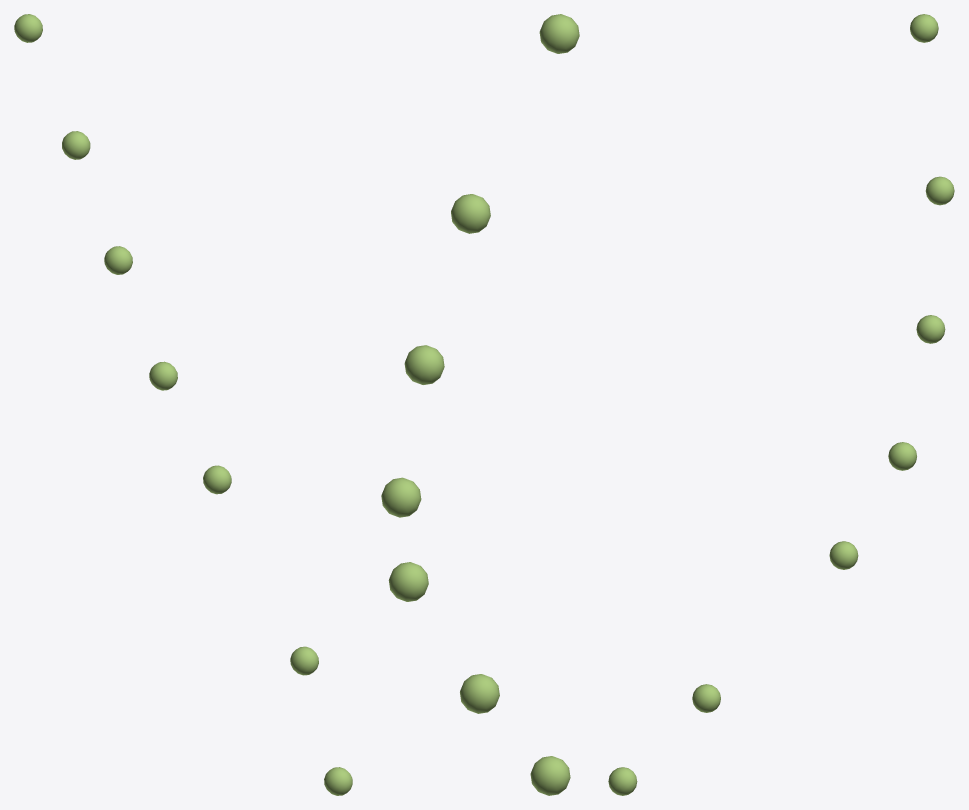
The model's file is intermediate-external-iliac-nodes-l.glb.
3 renders of one model, left to right at view 1: azimuth 30°, elevation 25°; view 2: azimuth 150°, elevation 25°; view 3: azimuth 270°, elevation 25°, orthographic. The views are drawn at different scales.
Parts seen in each view (by area): view 1: Intermediate external iliac nodes.l; view 2: Intermediate external iliac nodes.l; view 3: Intermediate external iliac nodes.l.
Boxes of the visible parts, <box> form: Intermediate external iliac nodes.l: <box>14,14,352,795</box>; Intermediate external iliac nodes.l: <box>381,14,579,795</box>; Intermediate external iliac nodes.l: <box>608,14,954,795</box>.
Bounding box in the file's own units: 0.0197 × 0.0697 × 0.0311.
